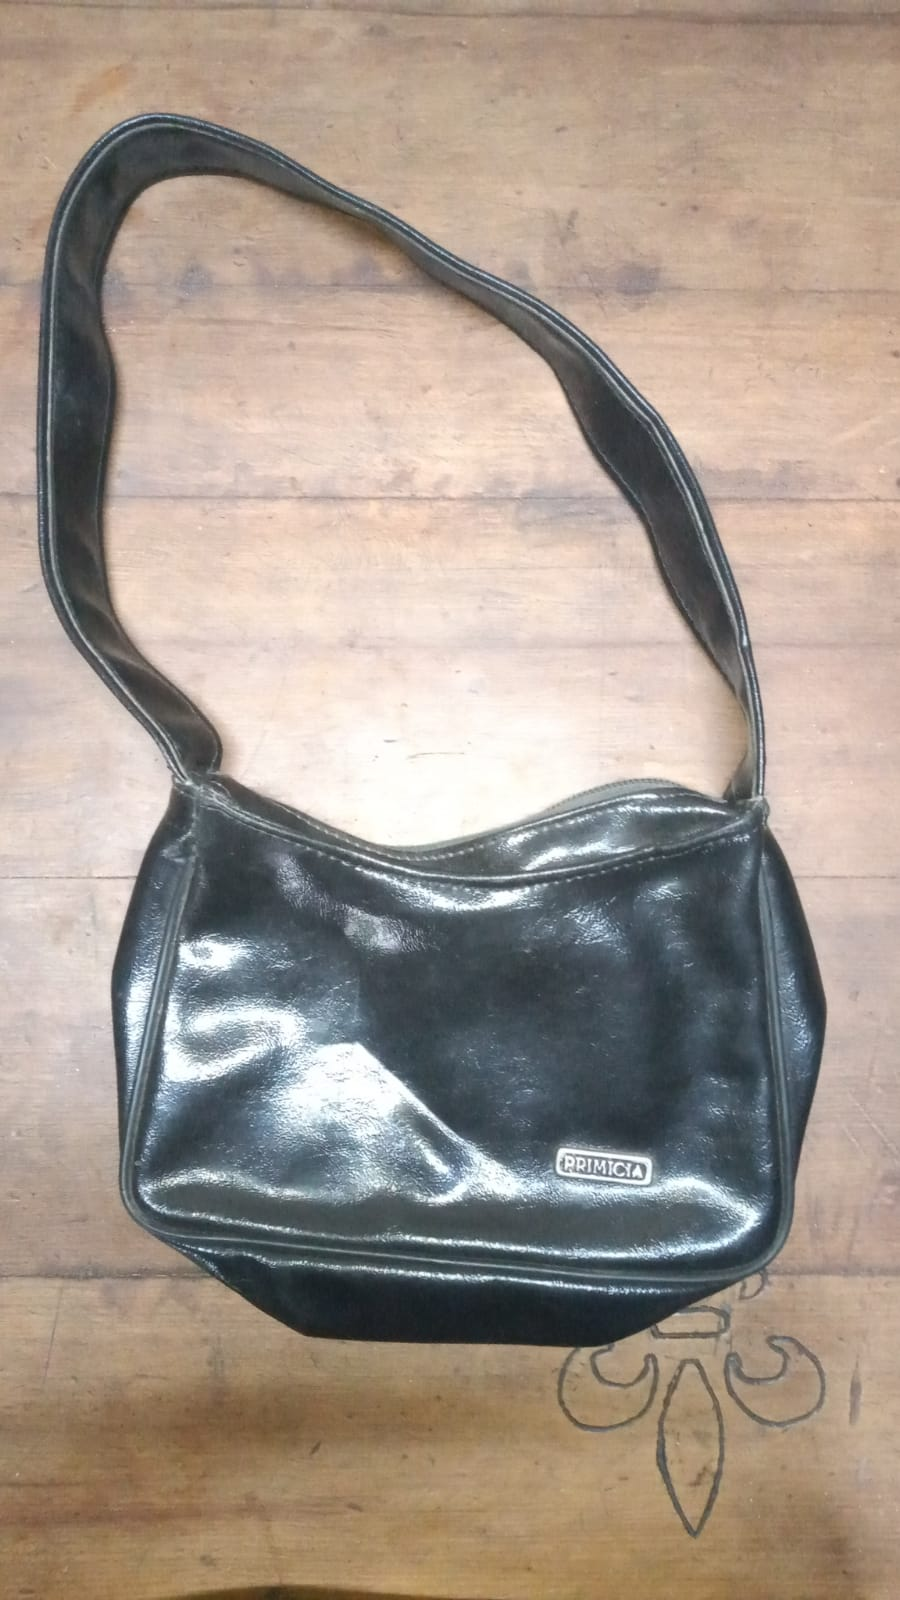cartera: (16, 105, 900, 1352)
cuero: (102, 773, 853, 1354)
